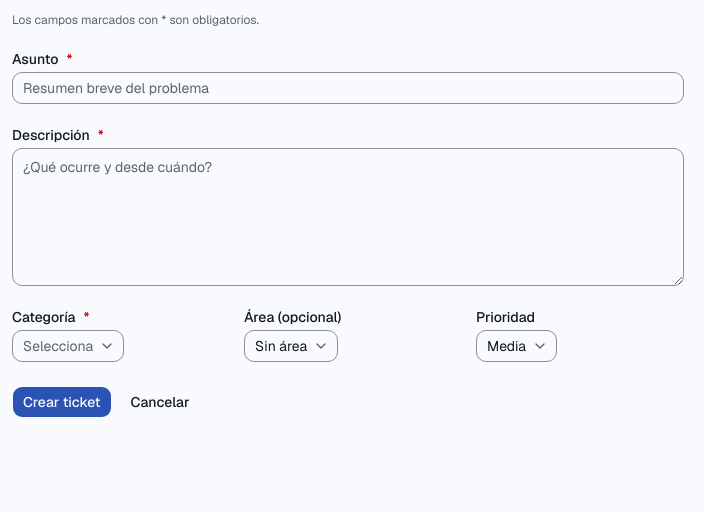
Test: FormularioTicket › muestra los errores cuando faltan campos obligatorios
Click the button "Crear ticket" at (62, 402), box [12,386,112,418]
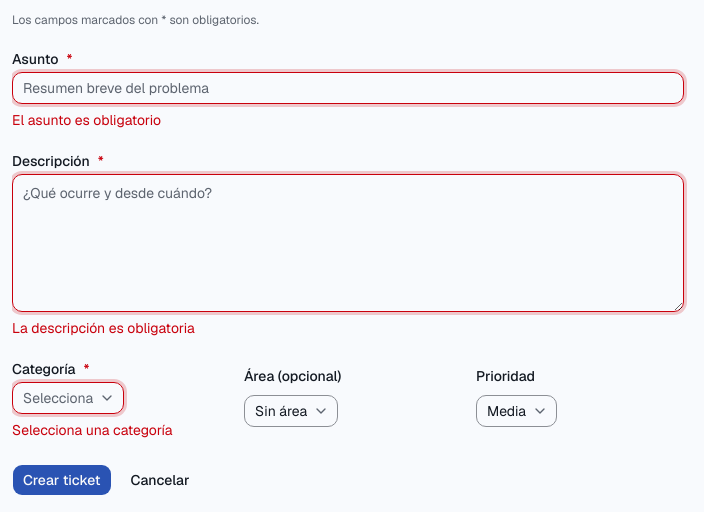
Check: the text "El asunto es obligatorio" is shown, box [12,111,161,129]
Check: the text "La descripción es obligatoria" is shown, box [12,319,195,337]
Check: the text "Selecciona una categoría" is shown, box [12,421,173,439]
